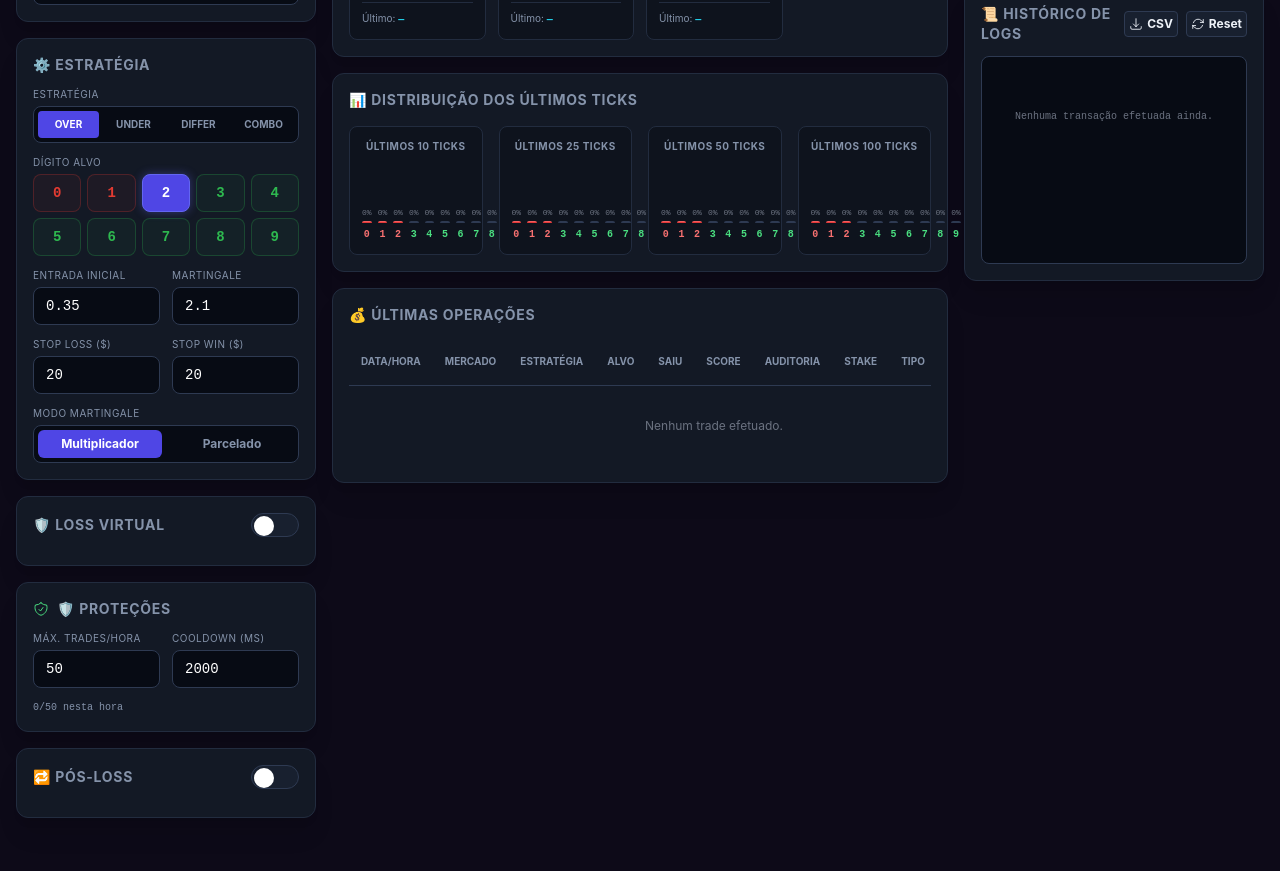
Test: BearBotUltra 2.0 — Bloco Pós-Loss (Card & Funcionalidades) › 8. Alterna de volta entre Analisar e Recuperar mantendo reatividade
(page scrolled)
Click the button without text next to "🔁 PÓS-LOSS": (275, 776) [251,764,299,788]
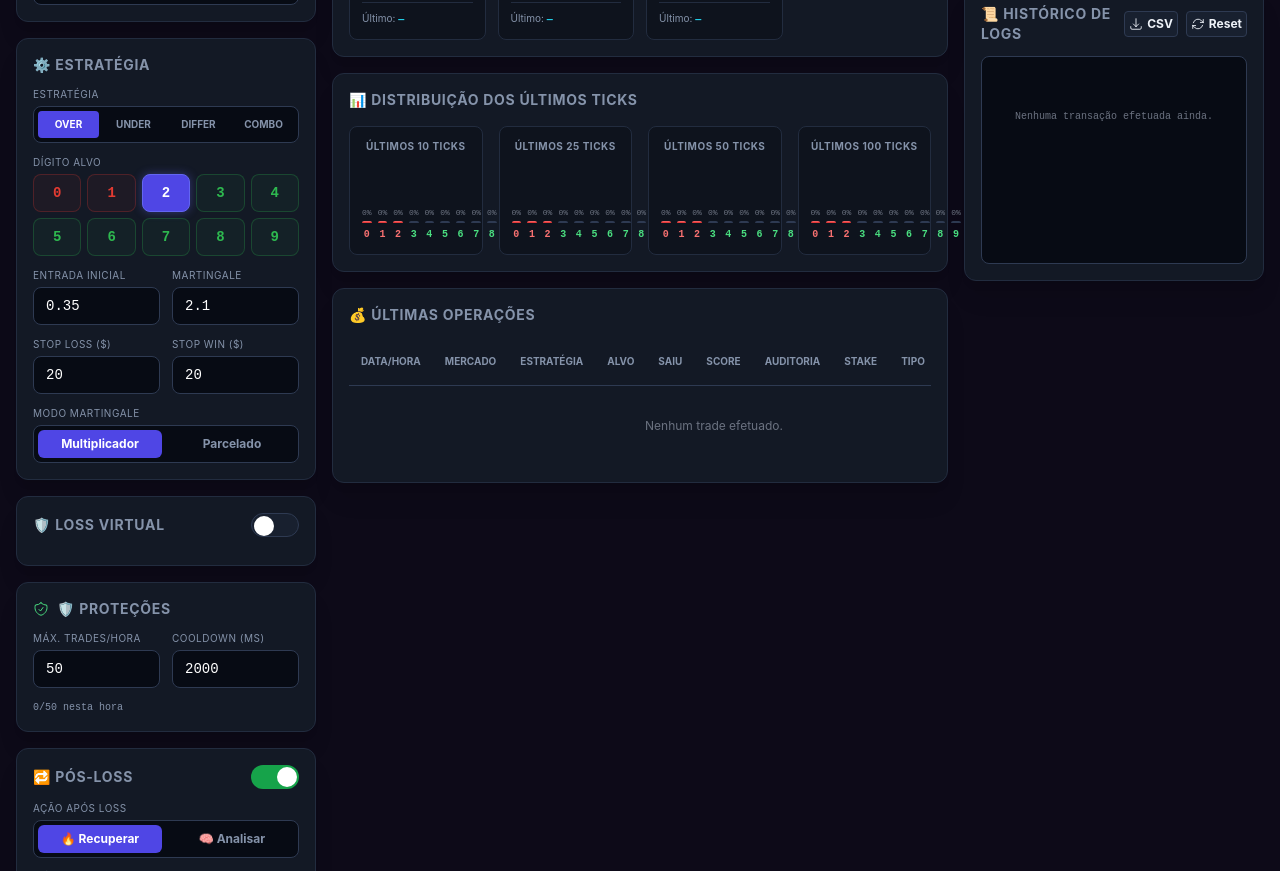
Mudar para Analisar
Click the button "🧠 Analisar": (232, 838) [170,824,294,852]
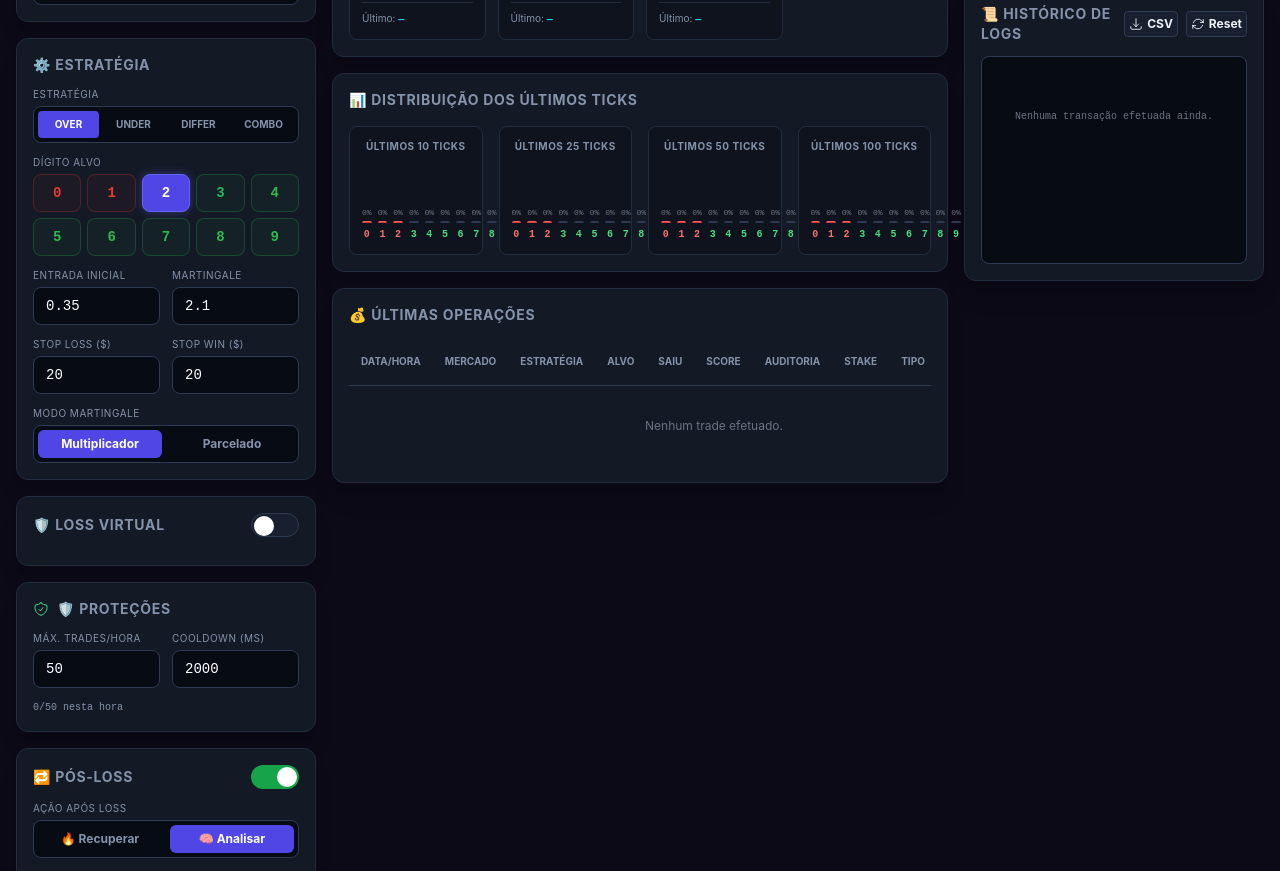
Voltar para Recuperar
Click the button "🔥 Recuperar": (100, 838) [38,824,162,852]
(page scrolled)
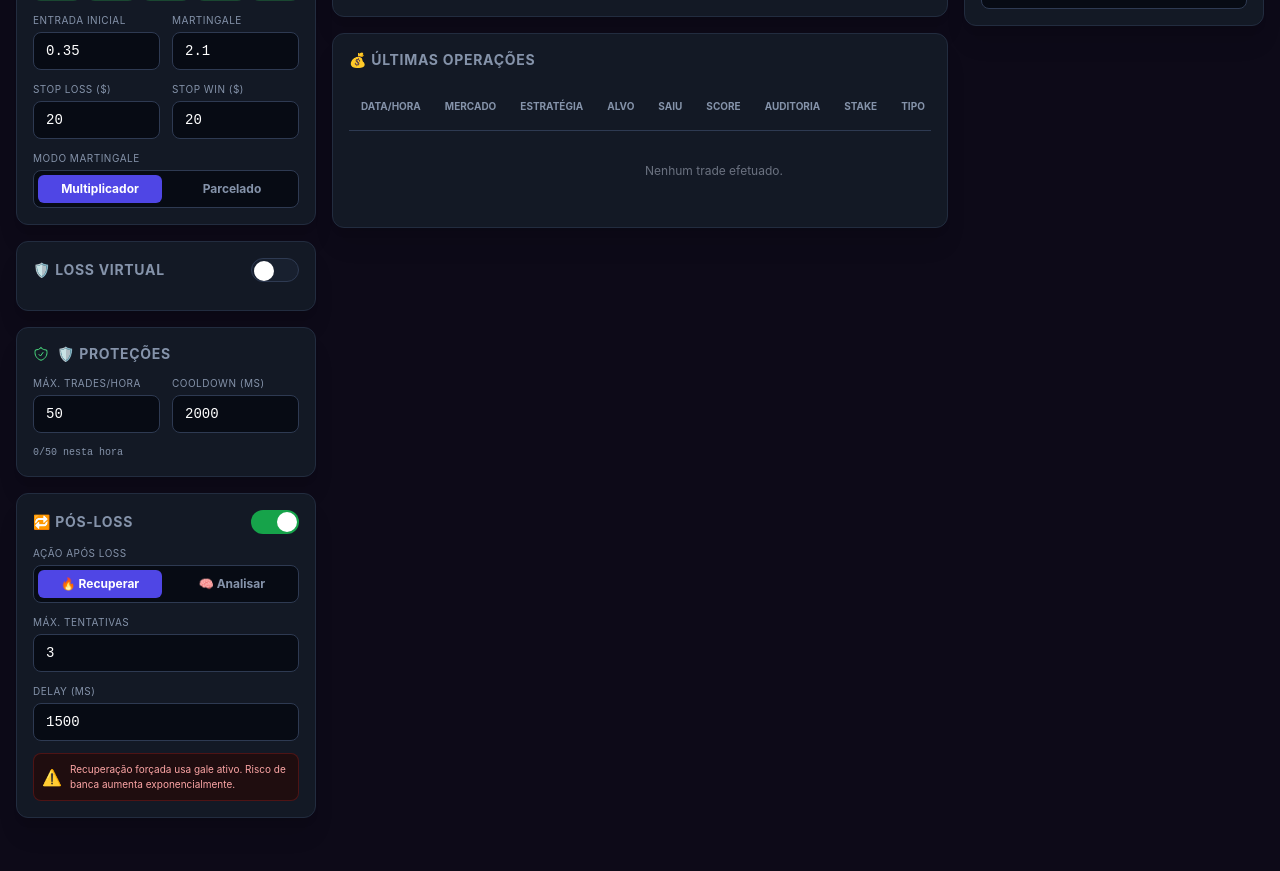
expect the text "Máx. tentativas" is shown: met, box [33,616,129,628]
expect the text "Delay (ms)" is shown: met, box [33,684,95,696]
